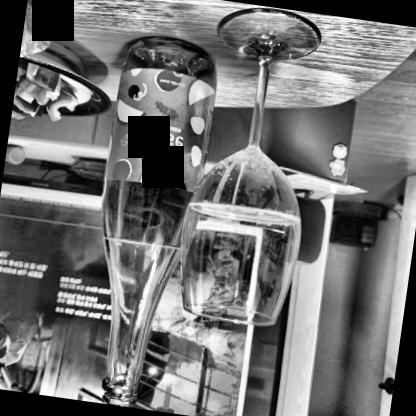yoserose: (104, 65, 217, 192)
